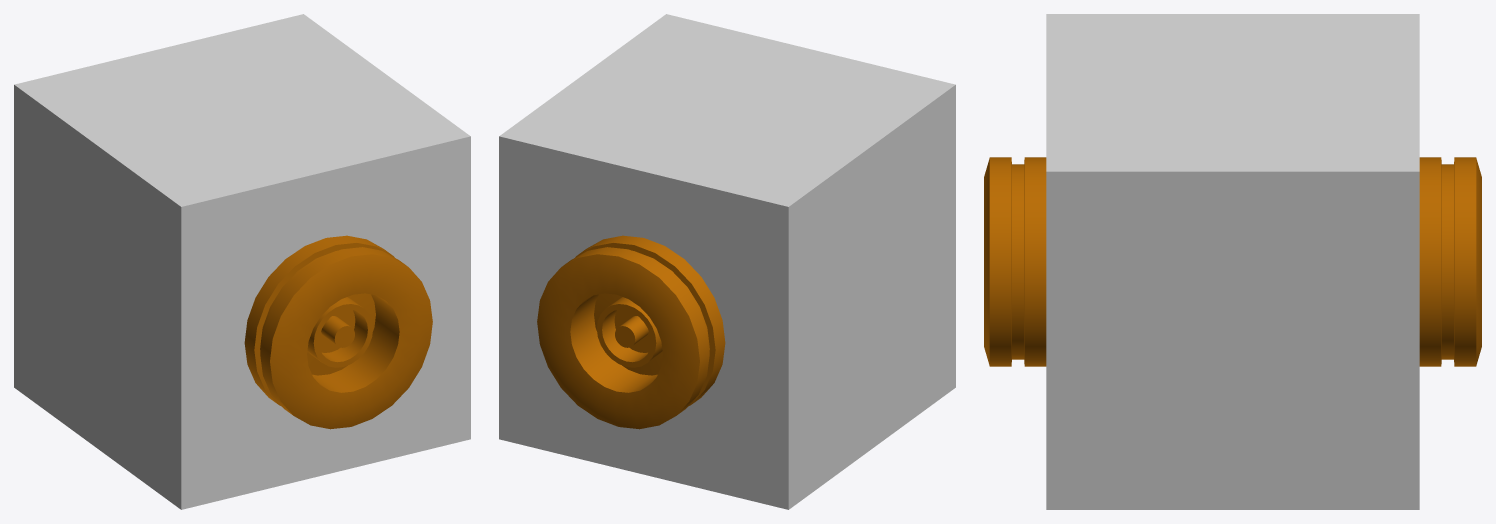
The model's file is HighVoltageBridge.gltf.
The picture shows the model from 3 angles, left to right: view 1: azimuth 30°, elevation 25°; view 2: azimuth 150°, elevation 25°; view 3: azimuth 270°, elevation 25°; orthographic projection. The views are drawn at different scales.
Visible parts, largest first — view 1: body; view 2: body; view 3: body.
Part boxes in pixels (x1,y1,x2,y2): body: [14, 14, 470, 509]; body: [499, 14, 955, 509]; body: [984, 14, 1481, 509].
Bounding box in the file's own units: 0.25 × 0.25 × 0.3334.
